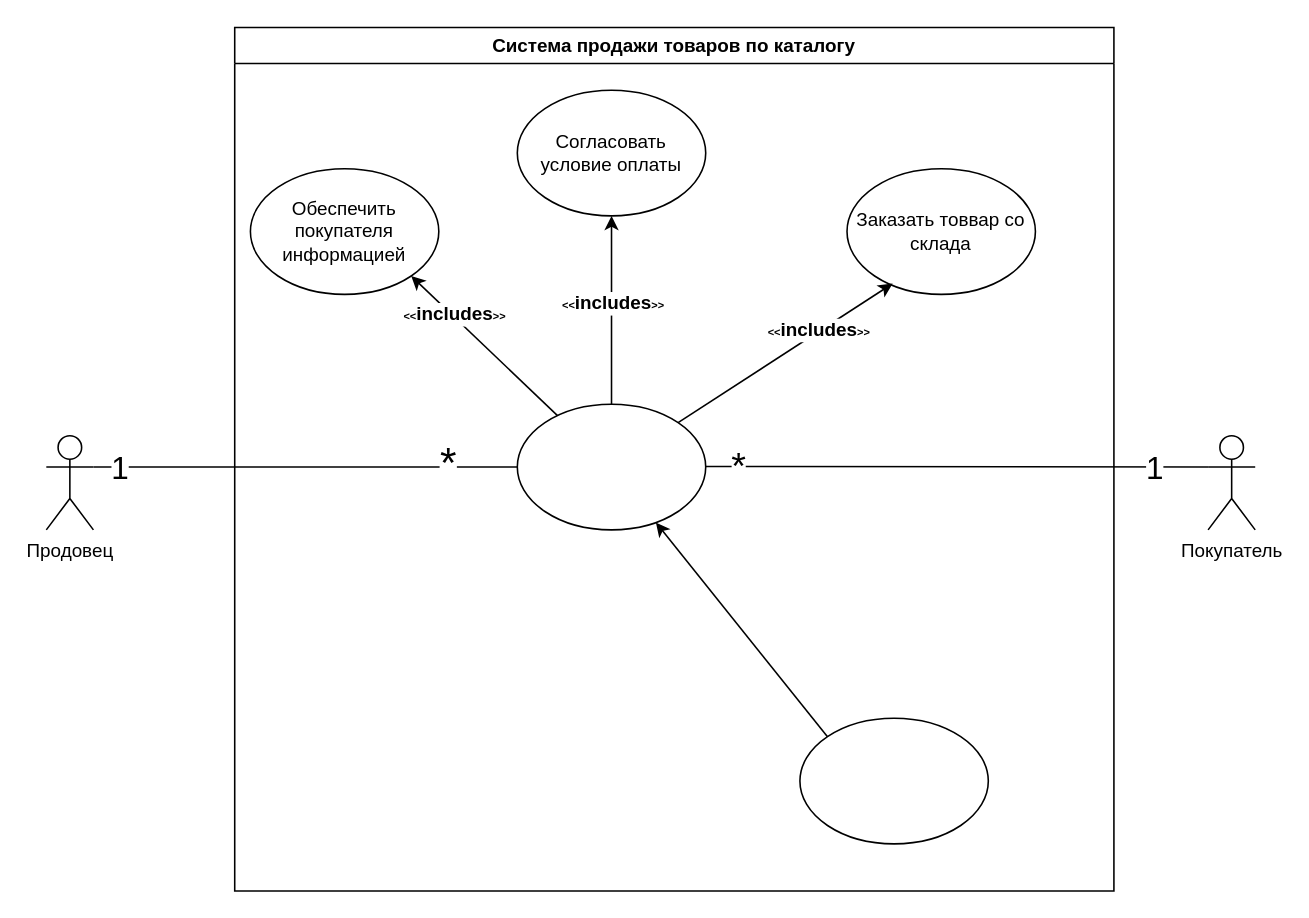
This 1309x918 diagram has some shape labels left out. Here are the shapes that lost their labels. From the top down, the centre of each, then its label:
At (611,466): "Оформить заказ на покупку товара".
At (893,780): "Запросить каталог товаров".
